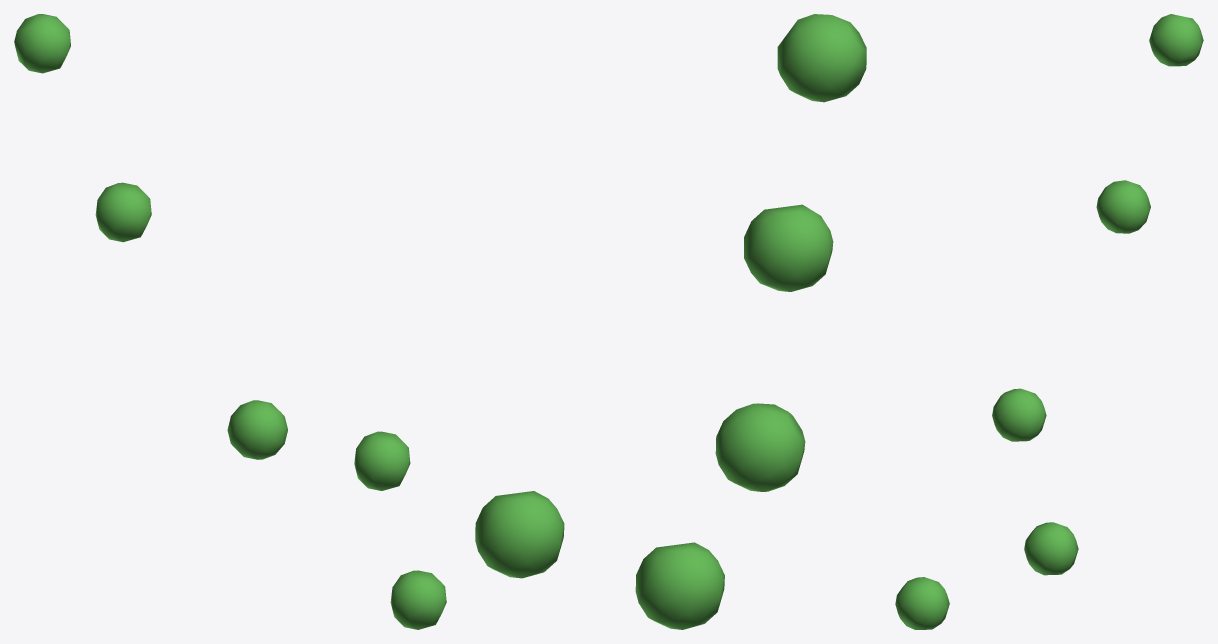
The model's file is linfatico-supratrochlear-nodes-r.glb.
3 renders of one model, left to right at view 1: azimuth 30°, elevation 25°; view 2: azimuth 150°, elevation 25°; view 3: azimuth 270°, elevation 25°, orthographic. The views are drawn at different scales.
Parts seen in each view (by area): view 1: Supratrochlear nodes.r; view 2: Supratrochlear nodes.r; view 3: Supratrochlear nodes.r.
Part boxes in pixels (<box>): Supratrochlear nodes.r: <box>14,14,446,629</box>; Supratrochlear nodes.r: <box>475,14,866,629</box>; Supratrochlear nodes.r: <box>895,14,1203,629</box>.
Size of the model in its own units: 0.0158 by 0.0266 by 0.0146.
